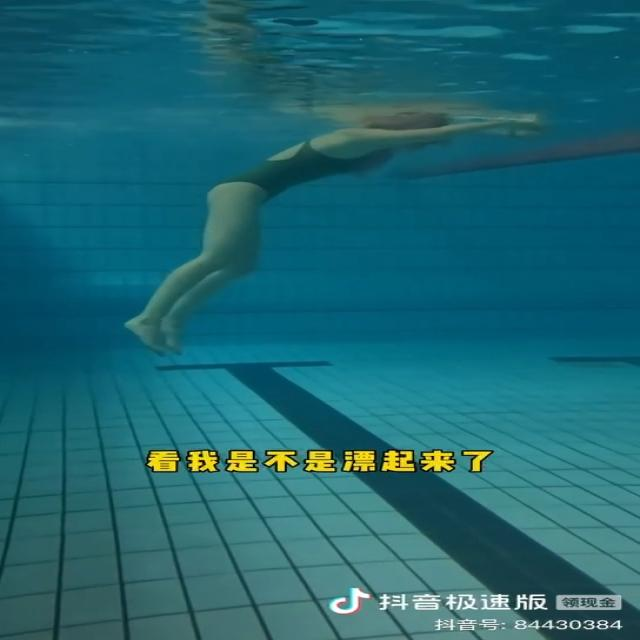Drowning: (121, 112, 541, 356)
